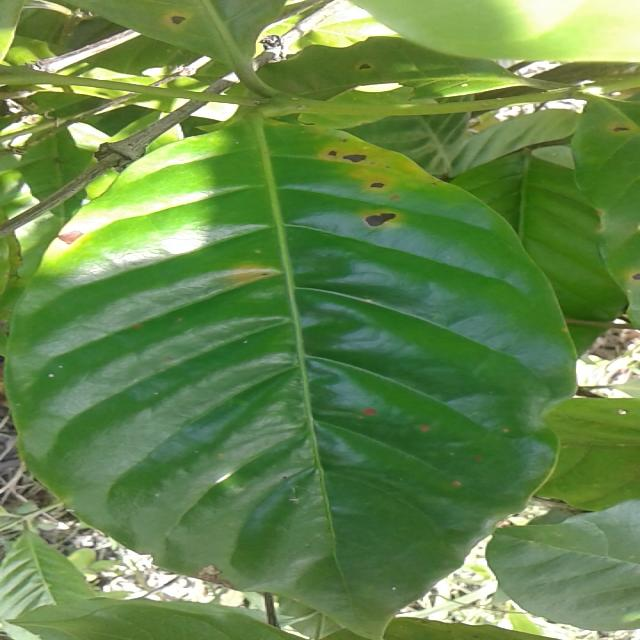Enfermedad-Roya: (2, 116, 575, 640)
